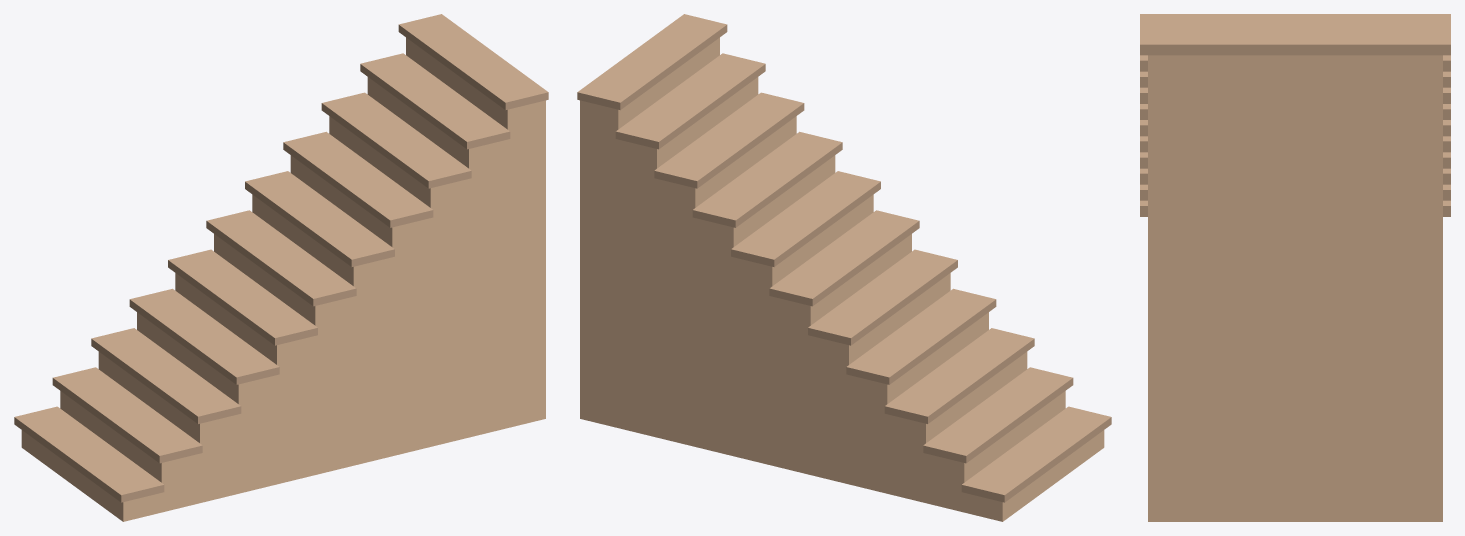
File: stairs.glb
The picture shows the model from 3 angles, left to right: view 1: azimuth 30°, elevation 25°; view 2: azimuth 150°, elevation 25°; view 3: azimuth 270°, elevation 25°; orthographic projection. The views are drawn at different scales.
Parts seen in each view (by area): view 1: stairs(Clone); view 2: stairs(Clone); view 3: stairs(Clone).
Boxes of the visible parts, bbox=[...] form: stairs(Clone): bbox=[14, 14, 548, 521]; stairs(Clone): bbox=[577, 14, 1111, 521]; stairs(Clone): bbox=[1140, 14, 1450, 521].
Size of the model in its own units: 3.7 by 2.72 by 1.6.
2 materials, 2 textured.
